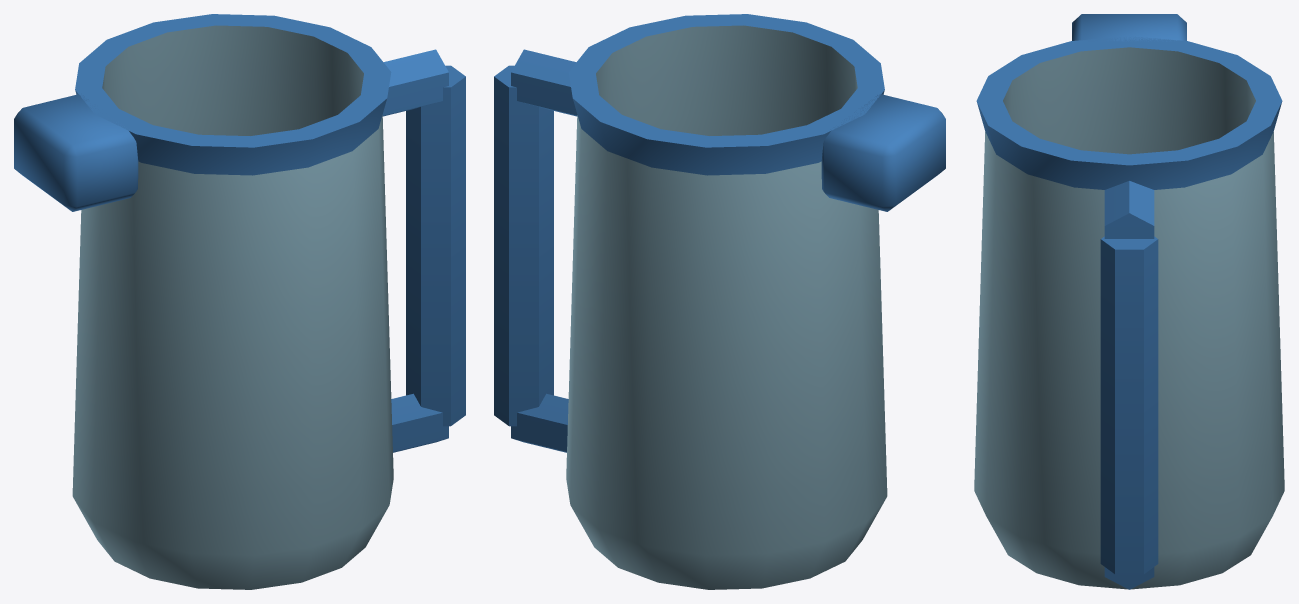
Rendered from Pitcher_01.glb.
The picture shows the model from 3 angles, left to right: view 1: azimuth 30°, elevation 25°; view 2: azimuth 150°, elevation 25°; view 3: azimuth 270°, elevation 25°; orthographic projection. The views are drawn at different scales.
Parts seen in each view (by area): view 1: SM_Pitcher_01; view 2: SM_Pitcher_01; view 3: SM_Pitcher_01.
Part boxes in pixels (x1,y1,x2,y2): SM_Pitcher_01: (14,14,465,589); SM_Pitcher_01: (494,14,945,589); SM_Pitcher_01: (974,14,1284,589).
Bounding box in the file's own units: 0.1944 × 0.2 × 0.13.
Materials: 1 (1 with a texture image).
